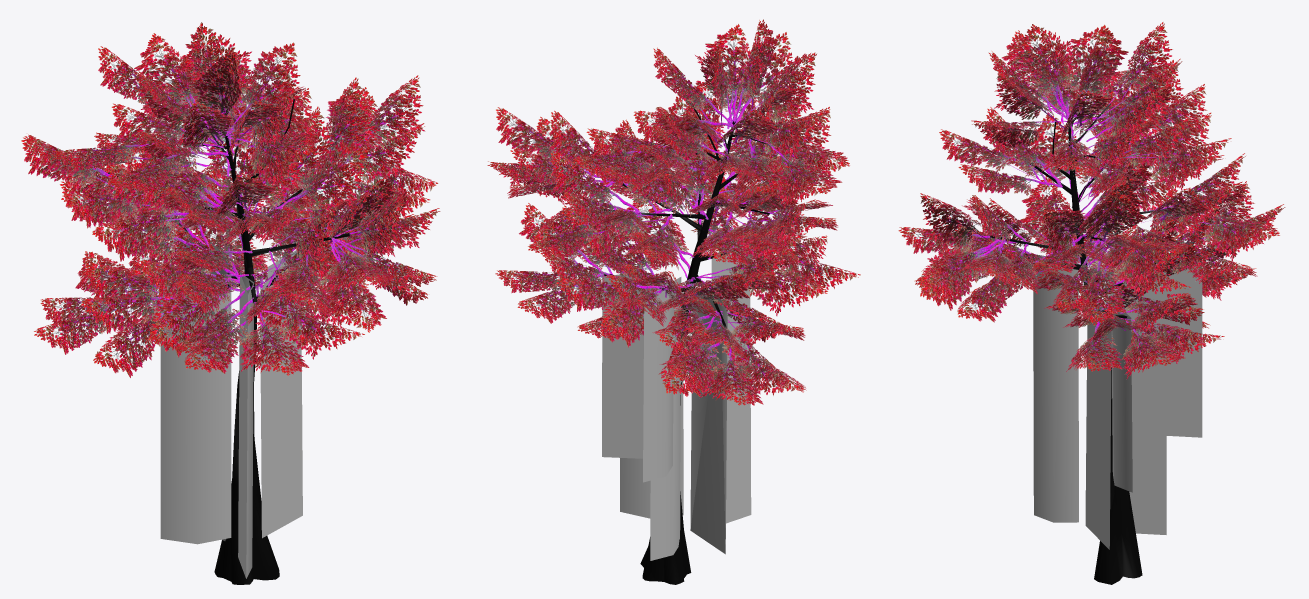
Rendered from CecropiaTree01.DAE.
3 renders of one model, left to right at view 1: azimuth 30°, elevation 25°; view 2: azimuth 150°, elevation 25°; view 3: azimuth 270°, elevation 25°, orthographic. The views are drawn at different scales.
Parts seen in each view (by area): view 1: Cecropia512, Cecropia256; view 2: Cecropia512, Cecropia256; view 3: Cecropia512, Cecropia256.
Boxes of the visible parts, x1=… form: Cecropia512: x1=23, y1=23, x2=439, y2=584; Cecropia256: x1=21, y1=22, x2=440, y2=583; Cecropia512: x1=488, y1=20, x2=860, y2=584; Cecropia256: x1=487, y1=19, x2=858, y2=582; Cecropia512: x1=899, y1=22, x2=1283, y2=584; Cecropia256: x1=898, y1=23, x2=1285, y2=579.
Size of what is drawn, in the model's own units: 330 by 326 by 473.
